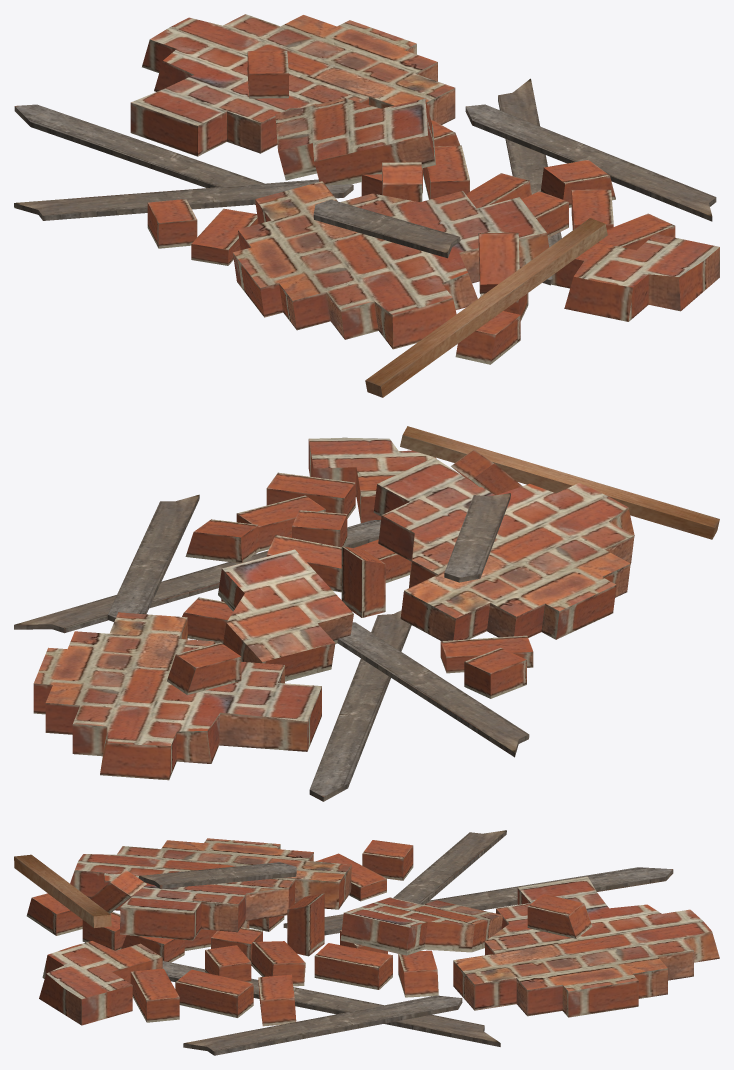
File: House_Rubble_02.obj
3 renders of one model, top to bottom at view 1: azimuth 30°, elevation 25°; view 2: azimuth 150°, elevation 25°; view 3: azimuth 270°, elevation 25°, orthographic. The views are drawn at different scales.
Parts seen in each view (by area): view 1: House_Rubble_02; view 2: House_Rubble_02; view 3: House_Rubble_02.
Boxes of the visible parts, box(x1,y1,x2,y2) form: House_Rubble_02: box(14, 14, 719, 397); House_Rubble_02: box(14, 426, 719, 801); House_Rubble_02: box(14, 830, 719, 1055).
Size of the model in its own units: 261 by 37.5 by 351.
